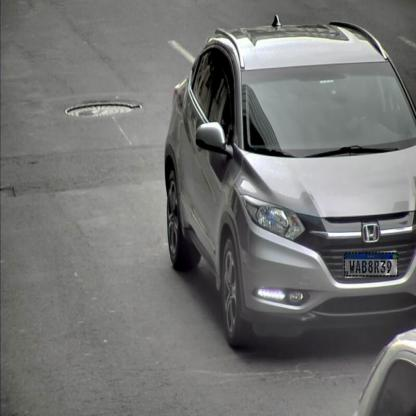PlacaM: (344, 252, 398, 277)
